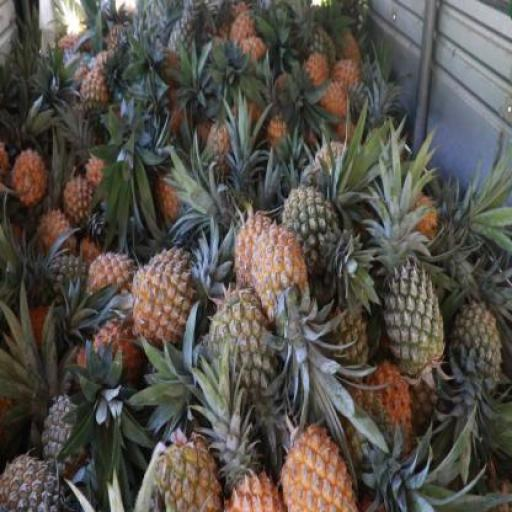------------------------------: (208, 288, 278, 398), (280, 188, 344, 287), (151, 443, 223, 512), (79, 66, 112, 124)
Pineapple - v8 v1: (278, 422, 358, 512), (130, 244, 200, 346), (254, 228, 315, 330), (234, 214, 284, 302), (86, 247, 134, 307), (61, 173, 99, 227), (11, 148, 44, 206)
